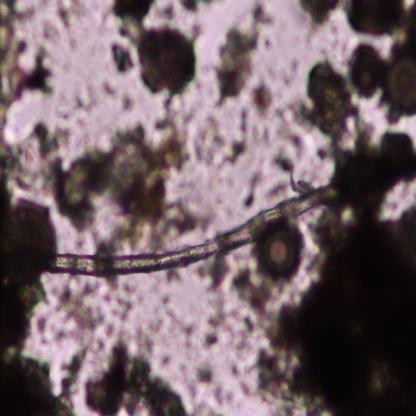Background material: (251, 199, 416, 415), (0, 116, 208, 240), (0, 0, 57, 202), (0, 279, 84, 414), (110, 1, 198, 113), (86, 330, 192, 414), (332, 129, 416, 218), (211, 0, 274, 108), (298, 0, 416, 56), (195, 106, 309, 154), (302, 60, 363, 142), (50, 278, 114, 350), (138, 294, 197, 349), (347, 43, 389, 100), (60, 78, 116, 119), (234, 269, 277, 319), (192, 362, 234, 406), (201, 289, 230, 349), (108, 278, 141, 323), (57, 0, 92, 42), (273, 152, 308, 194), (232, 317, 265, 361), (195, 254, 229, 288), (108, 42, 134, 77), (251, 78, 274, 116), (241, 170, 263, 209), (280, 56, 298, 92), (178, 0, 198, 14), (121, 92, 134, 111)
Diatom: (0, 206, 56, 279), (260, 227, 302, 278), (384, 56, 416, 113)
Microfibre: (51, 181, 338, 274)
